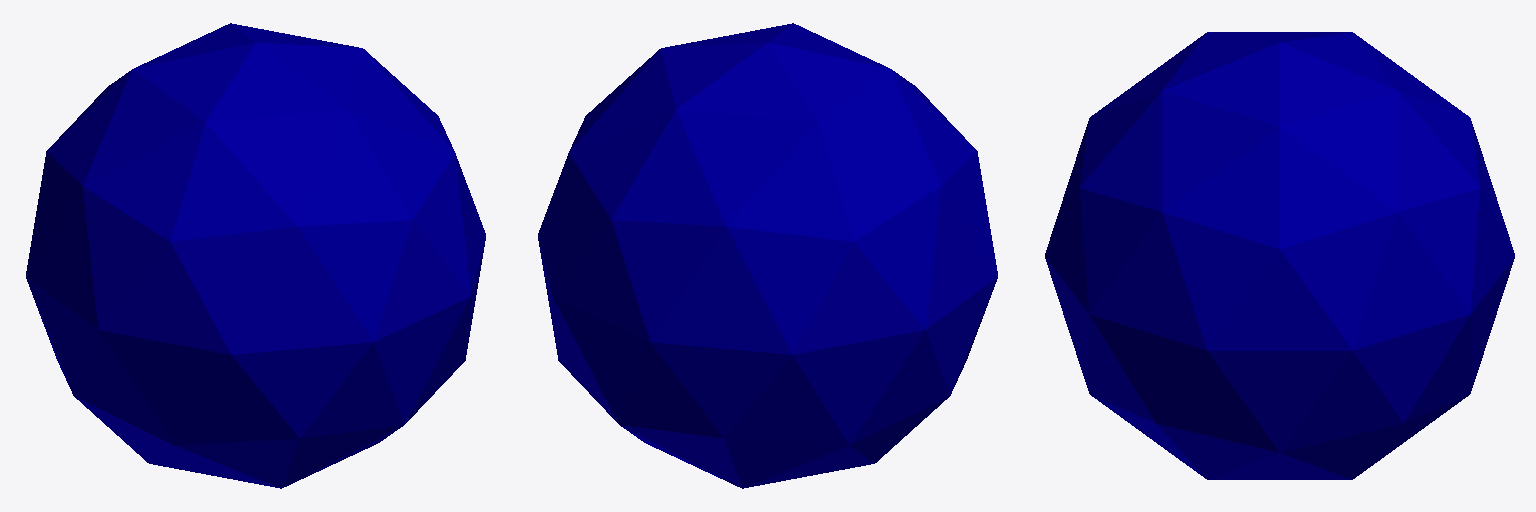
The model's file is newbullet.obj.
The picture shows the model from 3 angles: view 1: azimuth 30°, elevation 25°; view 2: azimuth 150°, elevation 25°; view 3: azimuth 270°, elevation 25°; orthographic projection.
Parts seen in each view (by area): view 1: Icosphere; view 2: Icosphere; view 3: Icosphere.
Part boxes in pixels (left/top/right/bottom): Icosphere: left=26, top=23, right=485, bottom=488; Icosphere: left=538, top=23, right=997, bottom=488; Icosphere: left=1045, top=32, right=1514, bottom=479.
Bounding box in the file's own units: 1.9 × 2 × 2.